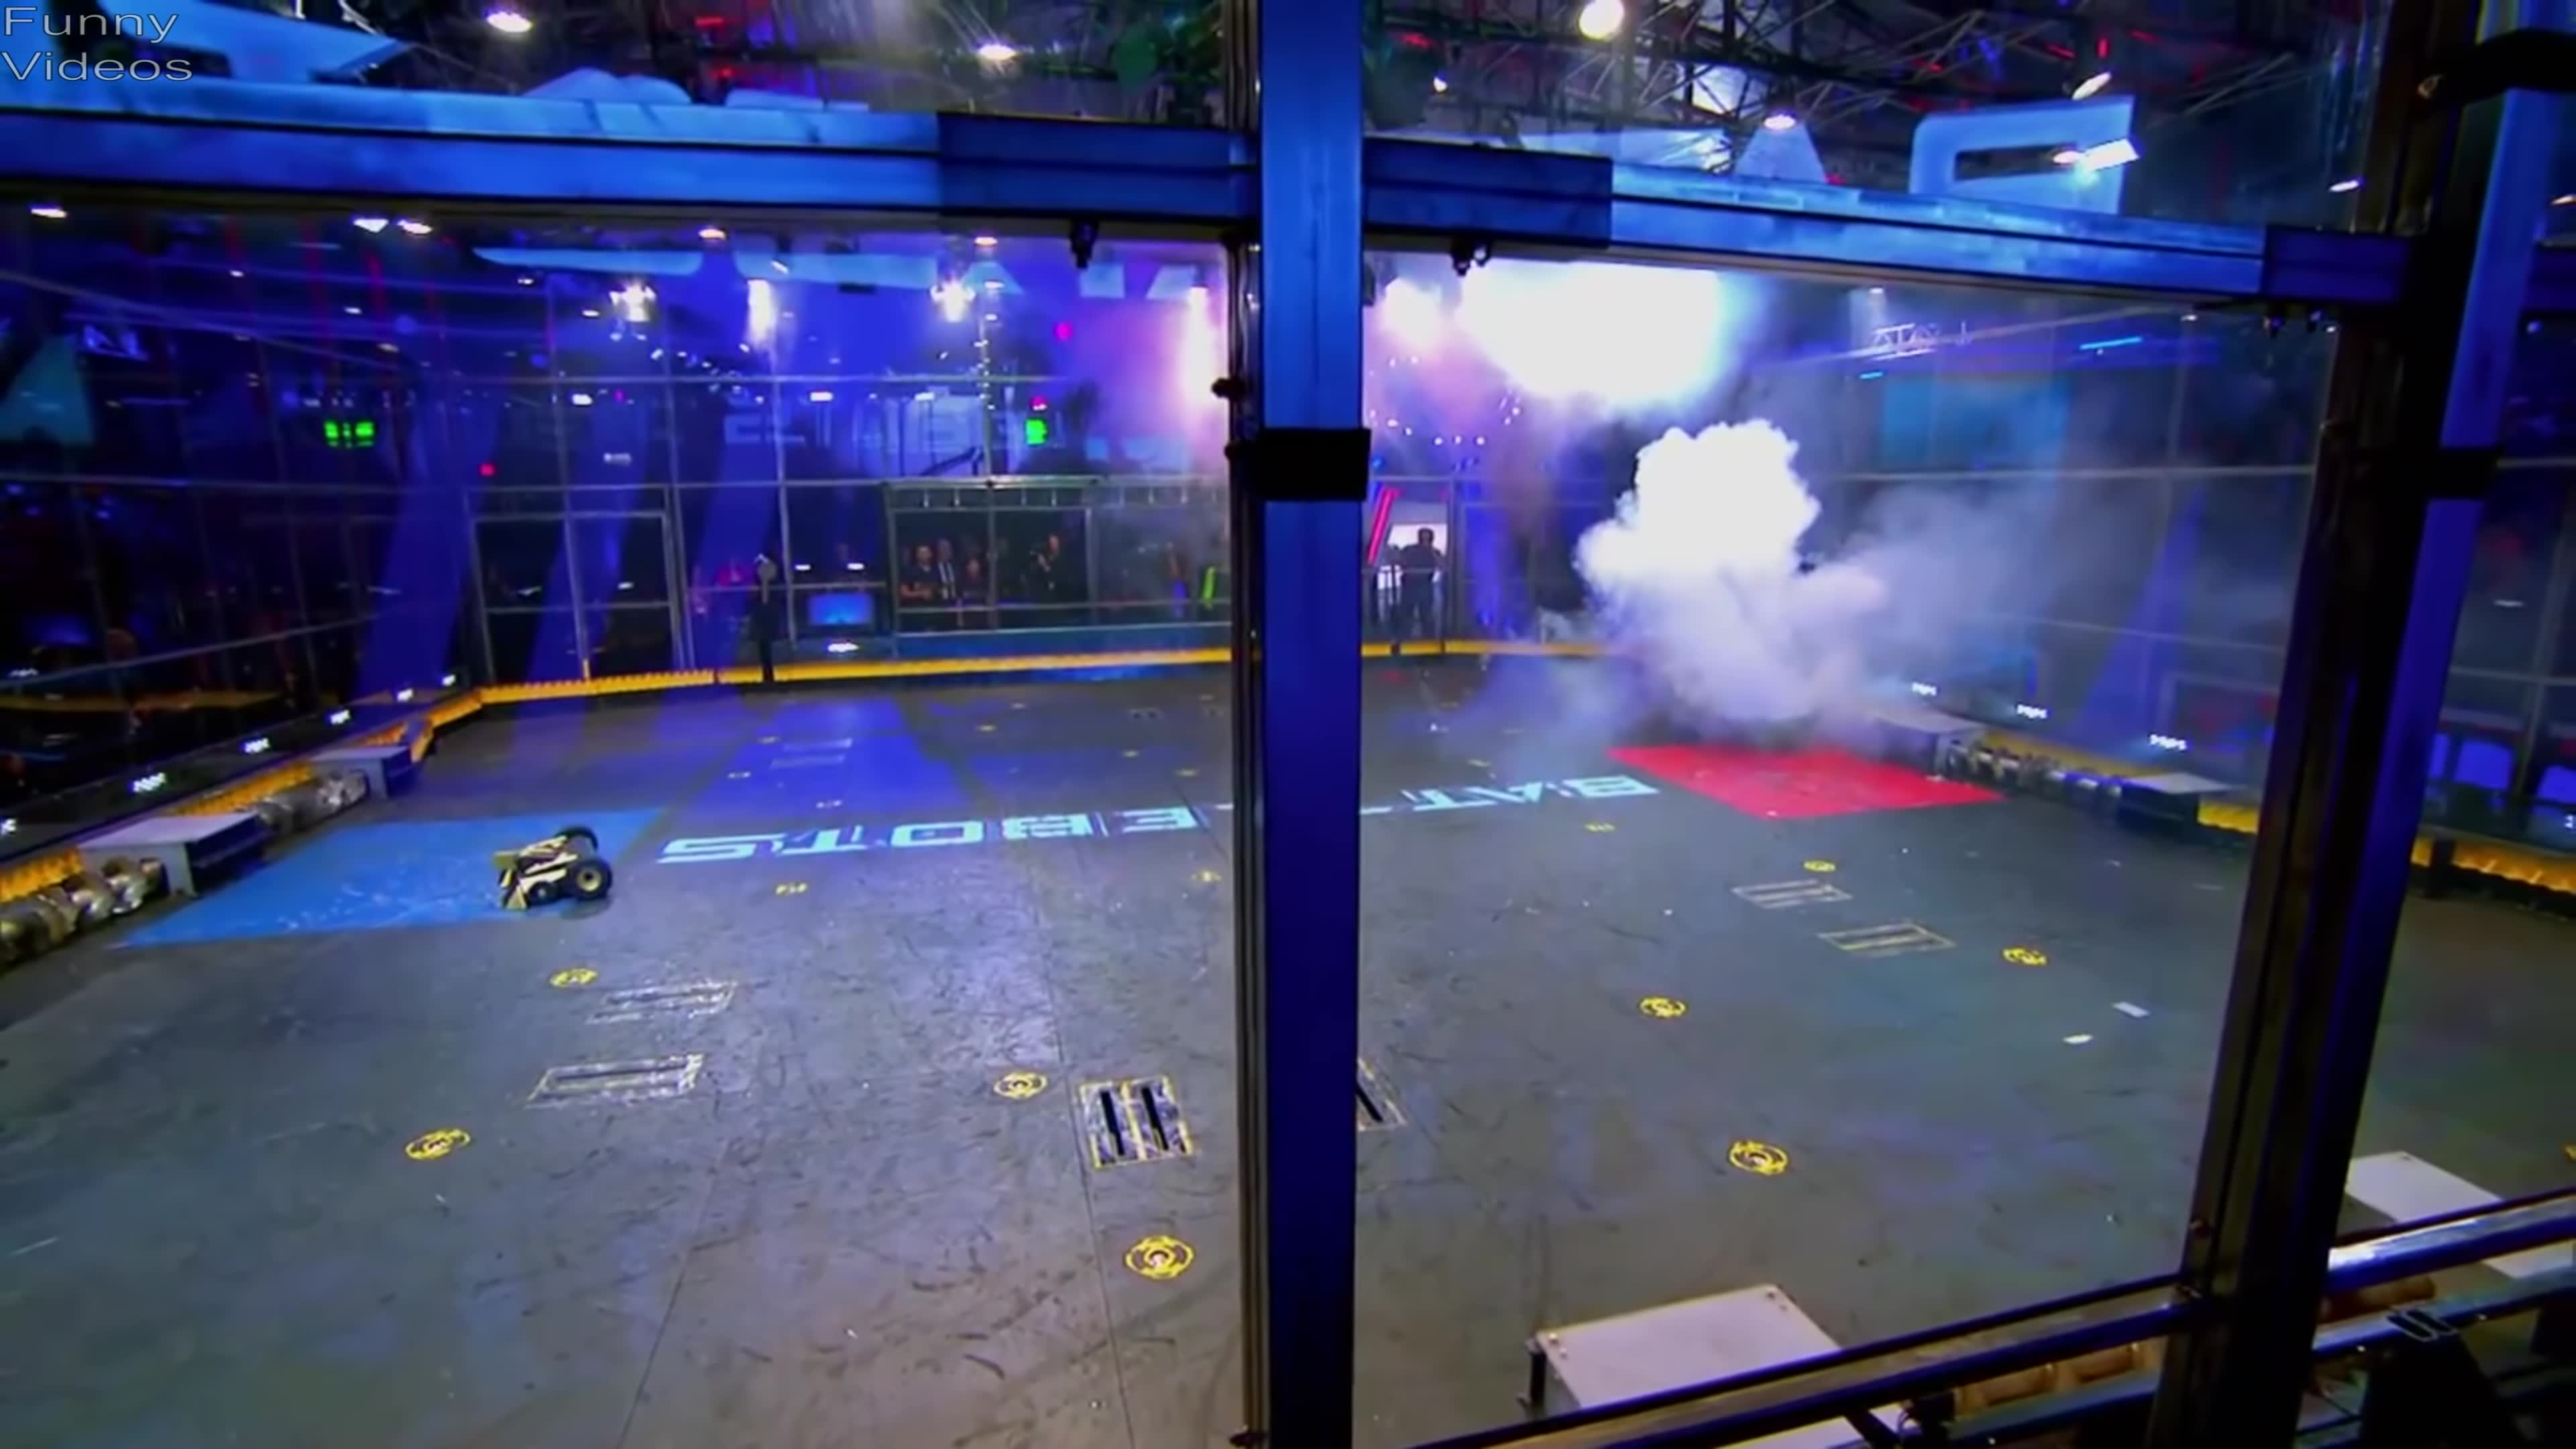combatbot: (492, 830, 612, 902)
